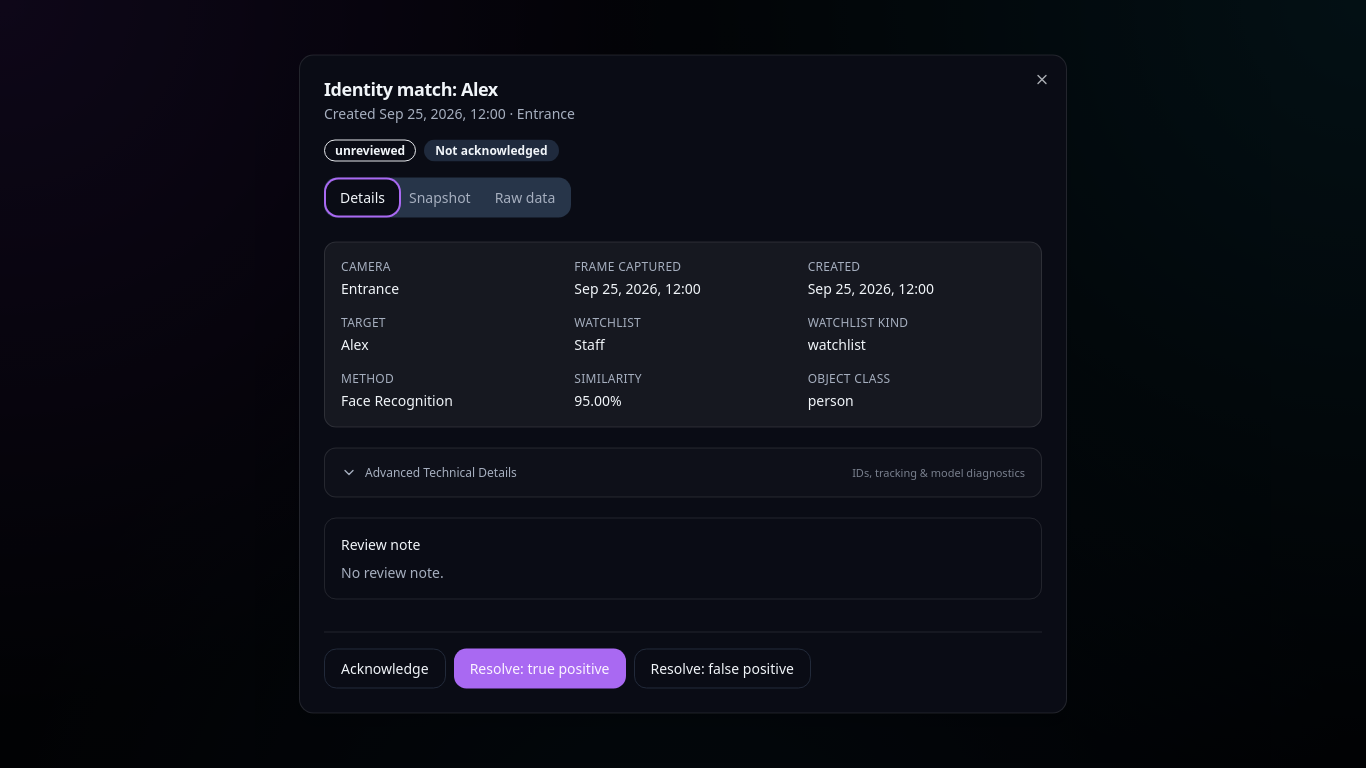
alert review role and confirmation guards › retains note and confirmation after a failed resolve without automatic write retry
Click the button "Resolve: true positive". click: [540, 668]
box: [454, 648, 626, 688]
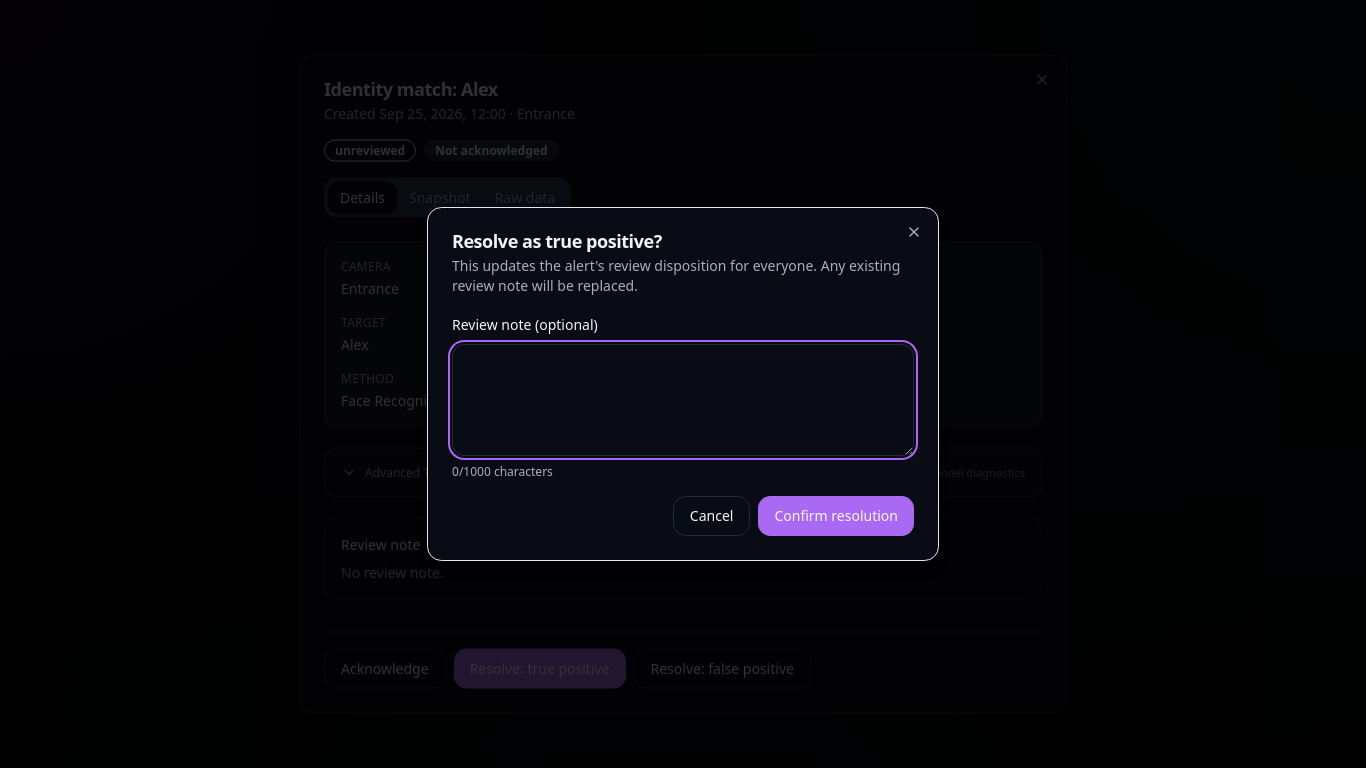
Type "Keep this note" into the text box labelled "Review note (optional)". click: [683, 400]
box: [452, 344, 914, 456]
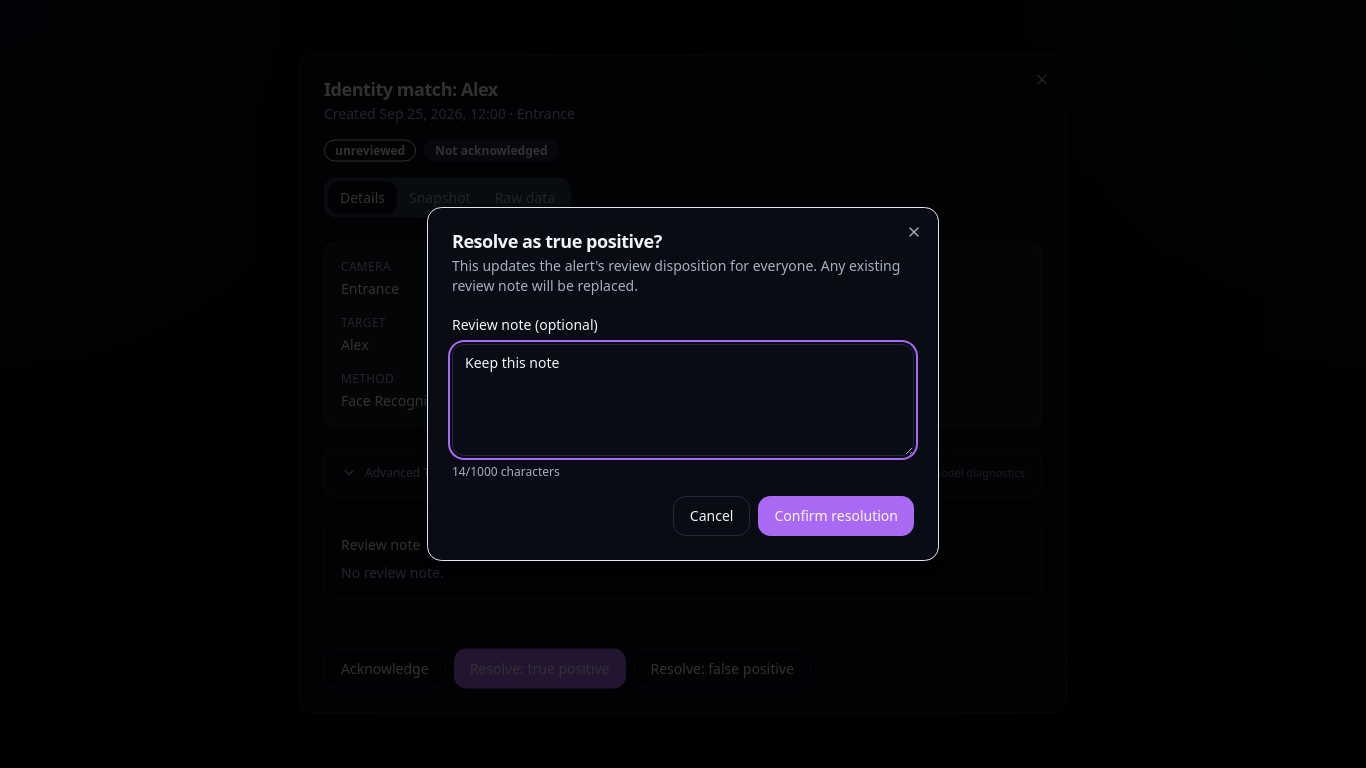
Click the button "Confirm resolution". click: [836, 516]
box: [758, 496, 914, 536]
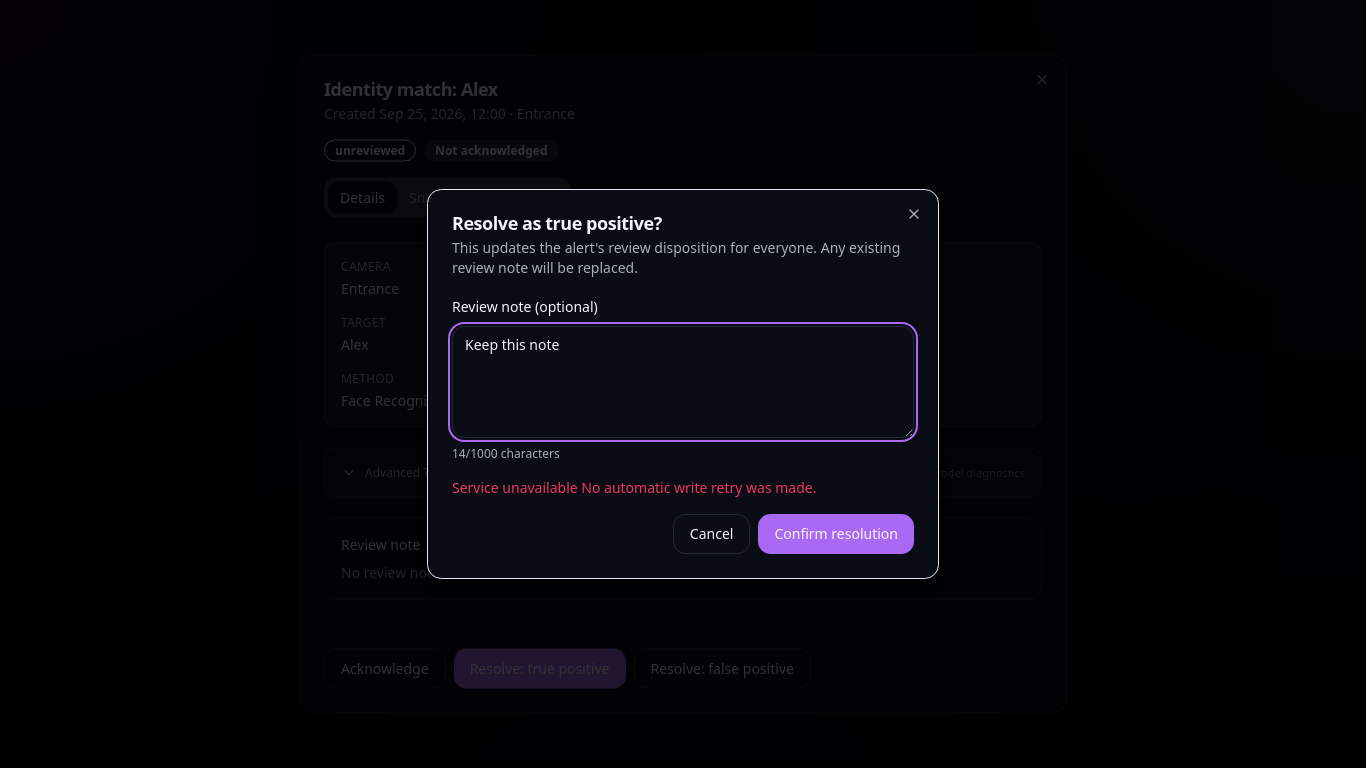
Result: the message shows "No automatic write retry" at [578, 478, 816, 497]
